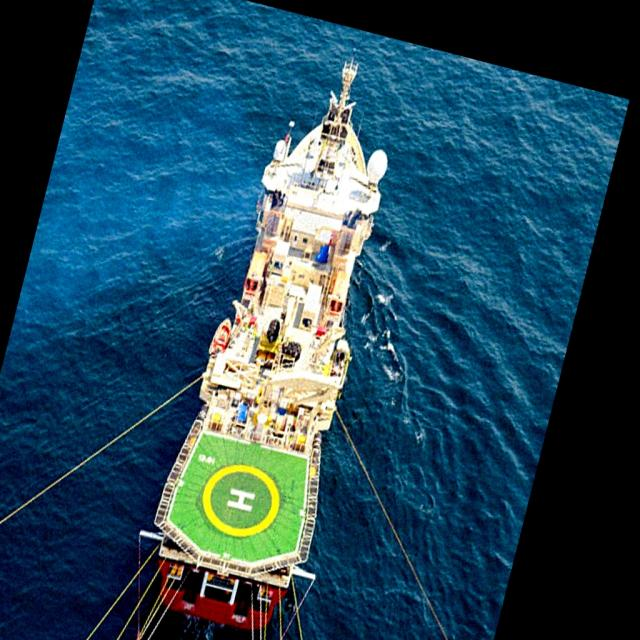helipad: (198, 462, 282, 540)
